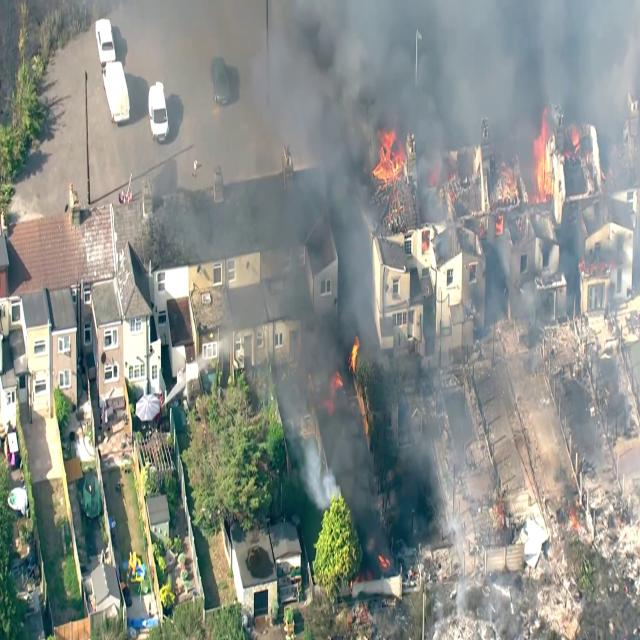fire: (368, 131, 411, 190), (534, 108, 558, 203)
smoke: (334, 0, 470, 111), (441, 0, 585, 82)
